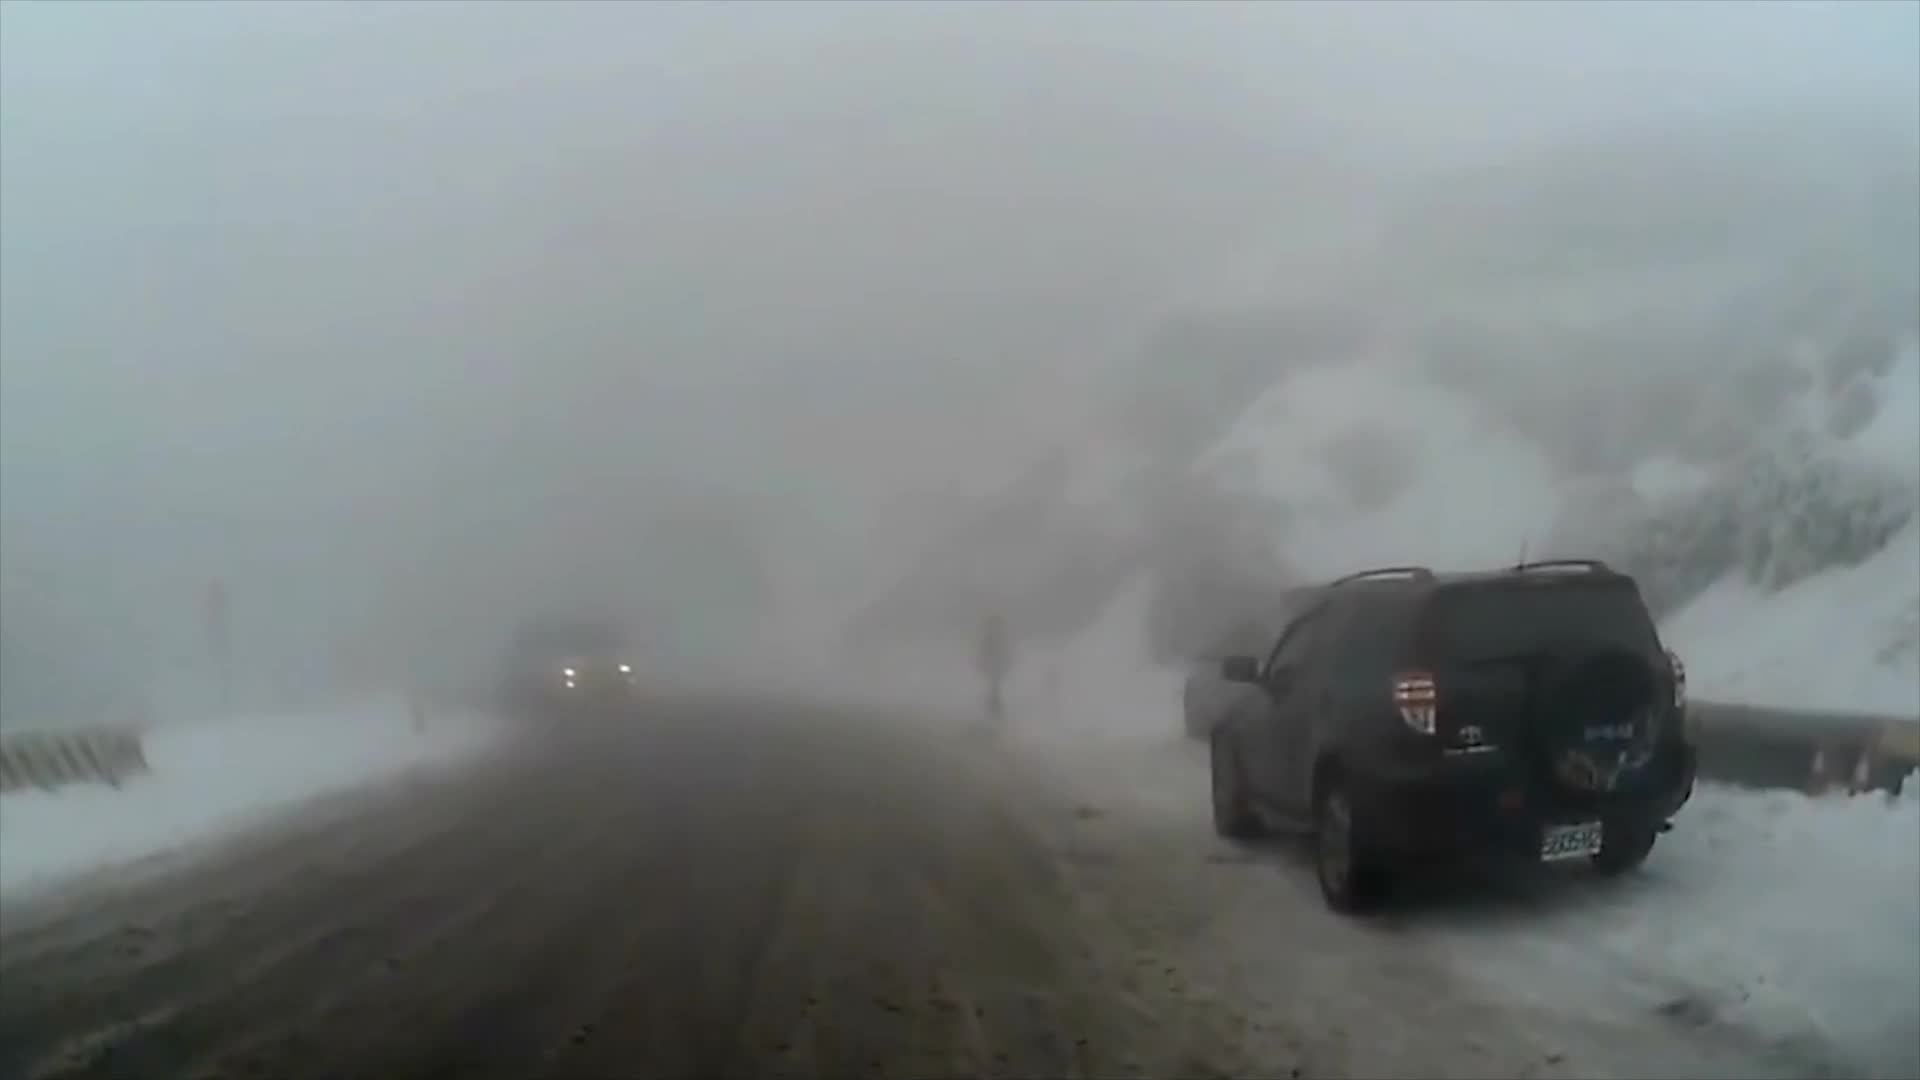vehicle: (1205, 553, 1701, 915), (506, 618, 644, 717)
